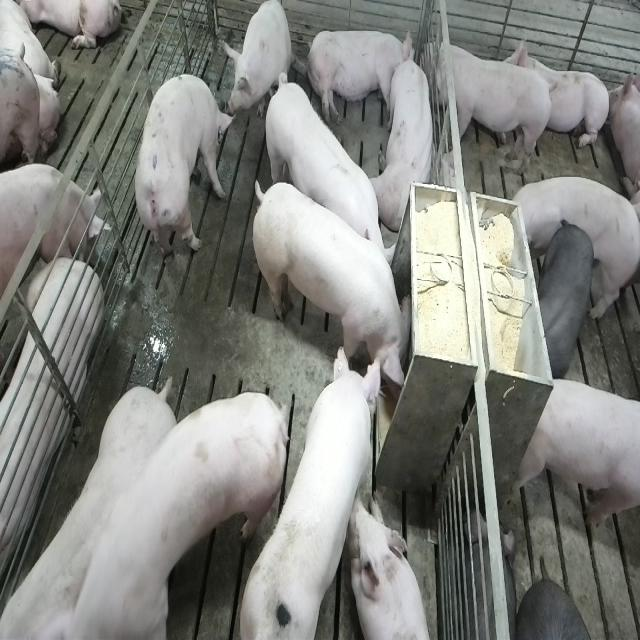Feeding: (242, 340, 398, 634), (255, 174, 419, 399)
Lateral_lying: (0, 250, 102, 602), (306, 26, 414, 127)
Sitting: (227, 1, 294, 130)
Standing: (4, 378, 185, 640), (132, 382, 288, 634), (261, 70, 395, 285), (132, 70, 233, 275), (513, 375, 639, 538), (505, 174, 638, 322), (422, 40, 555, 179), (0, 163, 106, 303), (536, 216, 596, 374)
Sternal_lying: (510, 31, 610, 155), (352, 492, 434, 640), (375, 46, 438, 231)
